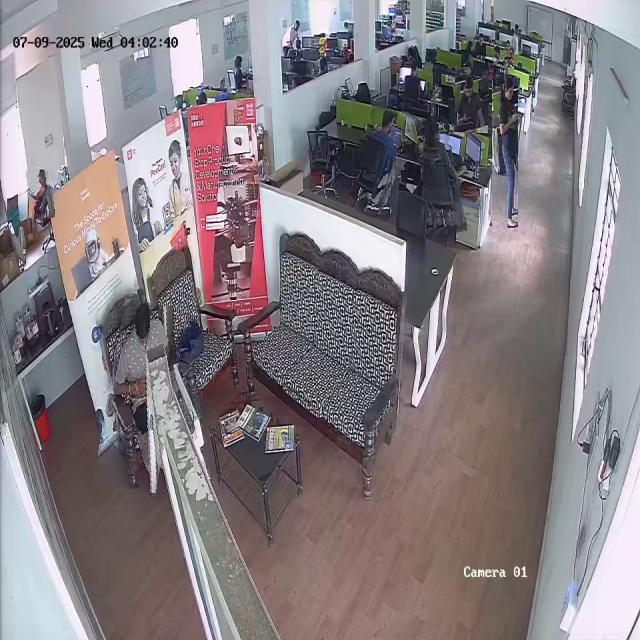person: (101, 300, 181, 491), (417, 116, 463, 236), (352, 108, 401, 218), (492, 79, 518, 232), (454, 75, 488, 134), (28, 168, 54, 218)
